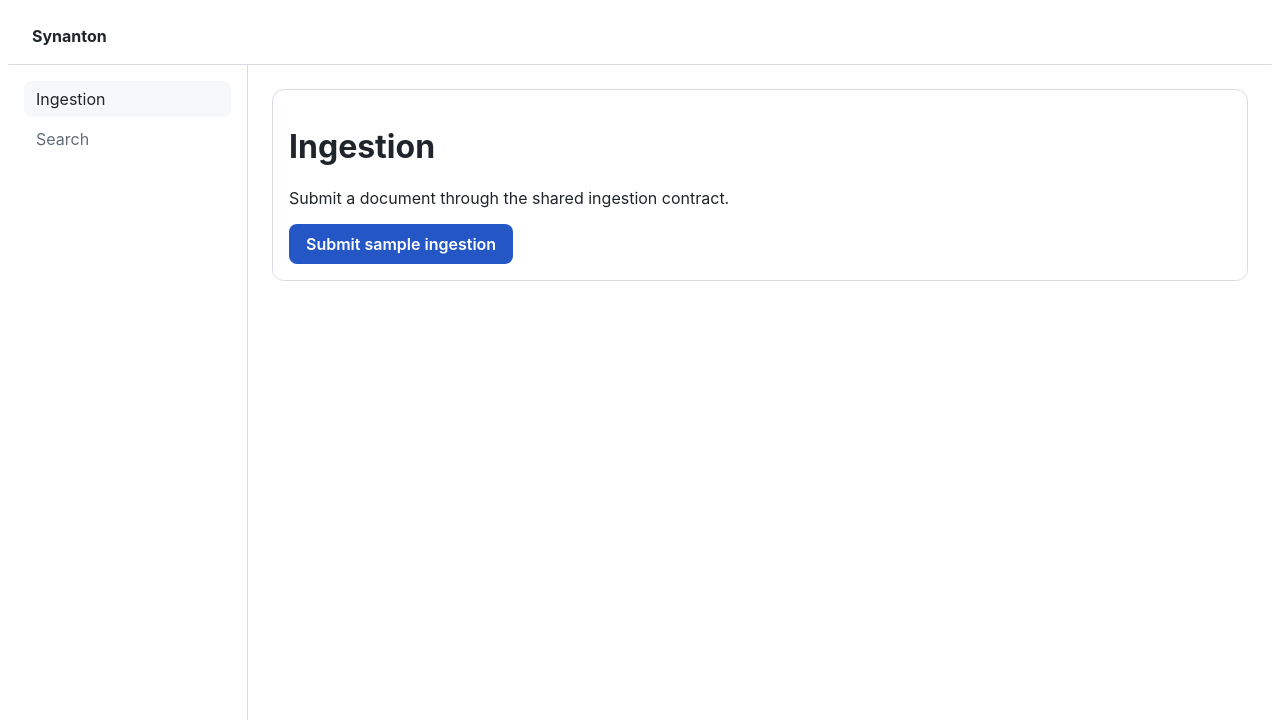
web shell (A-pre) › renders the ingestion route and the operation/run states
Expected: the heading "Ingestion" is shown, [289,127,435,166]
What coordinates should you click on to do the following:
click the button "Submit sample ingestion"
I would click on:
 (401, 244)
Its box is [289,224,513,264].
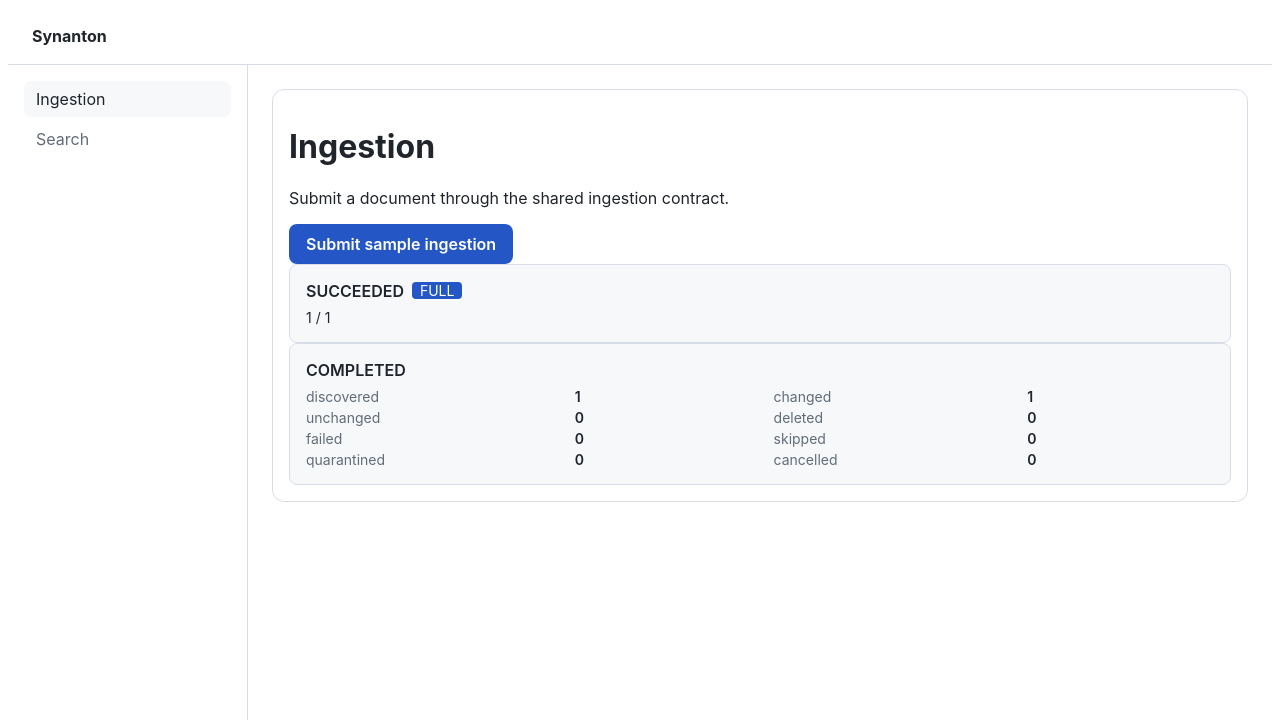
Result: the text "SUCCEEDED" is shown at [306,281,404,301]
Result: the text "COMPLETED" is shown at [306,360,406,380]
Result: the text "changed" is shown at [774,388,831,405]
